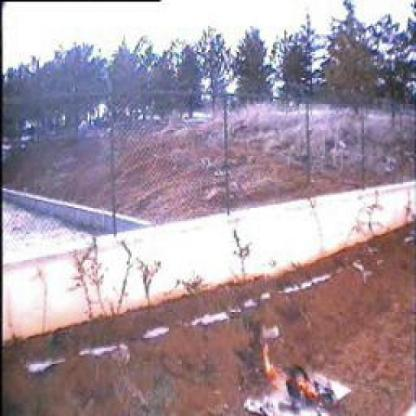fire: (260, 338, 328, 414)
